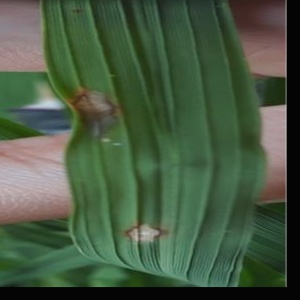Brown_Spot: (64, 68, 129, 151), (107, 206, 171, 251)
